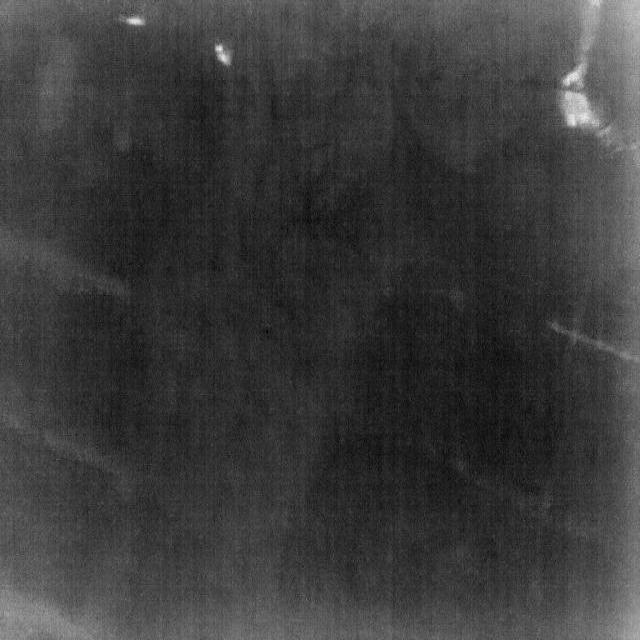deer: (214, 41, 232, 67), (125, 16, 146, 27)
